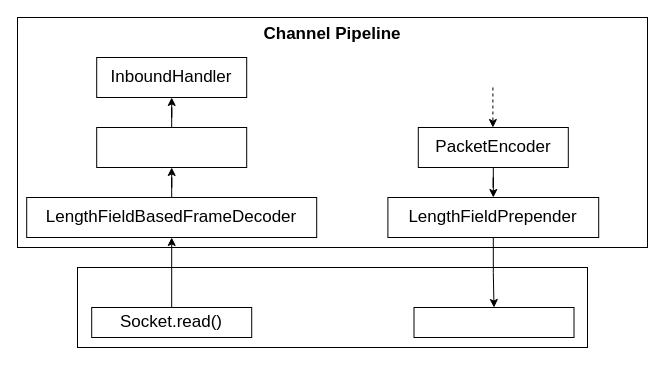
Some shapes in this 665 by 365 pixel diagram are drawn without their labels. Each missing label, with the box of its shape:
Netty I/O Threads: (76, 266, 588, 348)
PacketDecoder: (96, 126, 247, 168)
Socket.write(): (413, 306, 574, 338)
